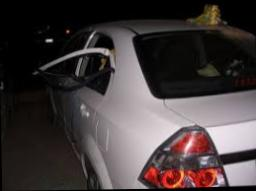Door: (23, 29, 117, 153)
